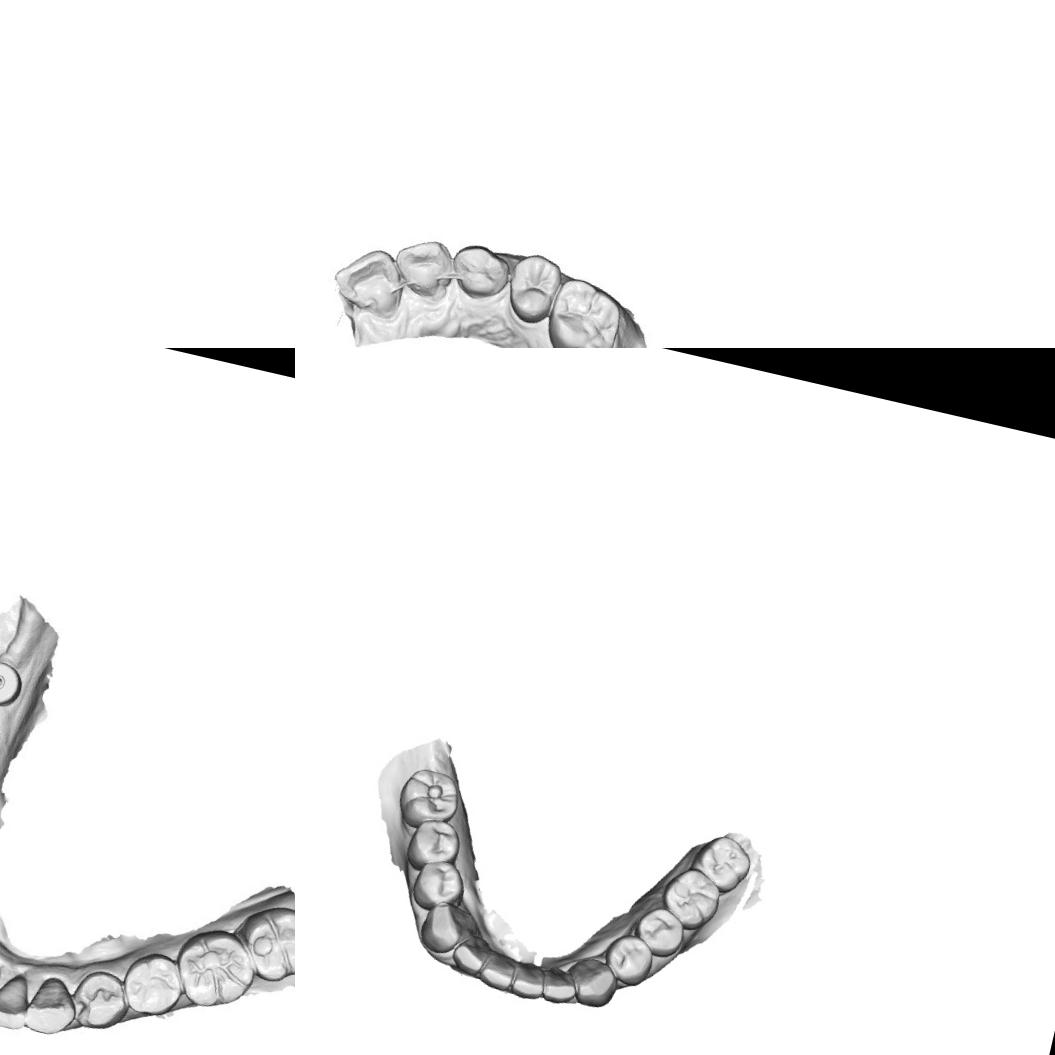canine: (385, 230, 466, 314), (19, 970, 80, 1044), (416, 897, 482, 960), (560, 951, 622, 1012)
implant: (0, 655, 28, 710)
incisor: (326, 242, 410, 320), (448, 930, 494, 978), (536, 962, 582, 1008), (476, 947, 520, 992), (507, 958, 550, 1004), (0, 971, 33, 1029)
molar: (166, 919, 263, 1019), (536, 273, 632, 348), (390, 760, 467, 836), (235, 899, 295, 990), (653, 862, 726, 936), (684, 828, 758, 898)
premolar: (498, 246, 570, 331), (67, 960, 136, 1038), (446, 238, 516, 308), (121, 950, 184, 1024), (402, 812, 468, 878), (406, 854, 470, 916), (597, 929, 659, 991), (629, 902, 690, 962)
